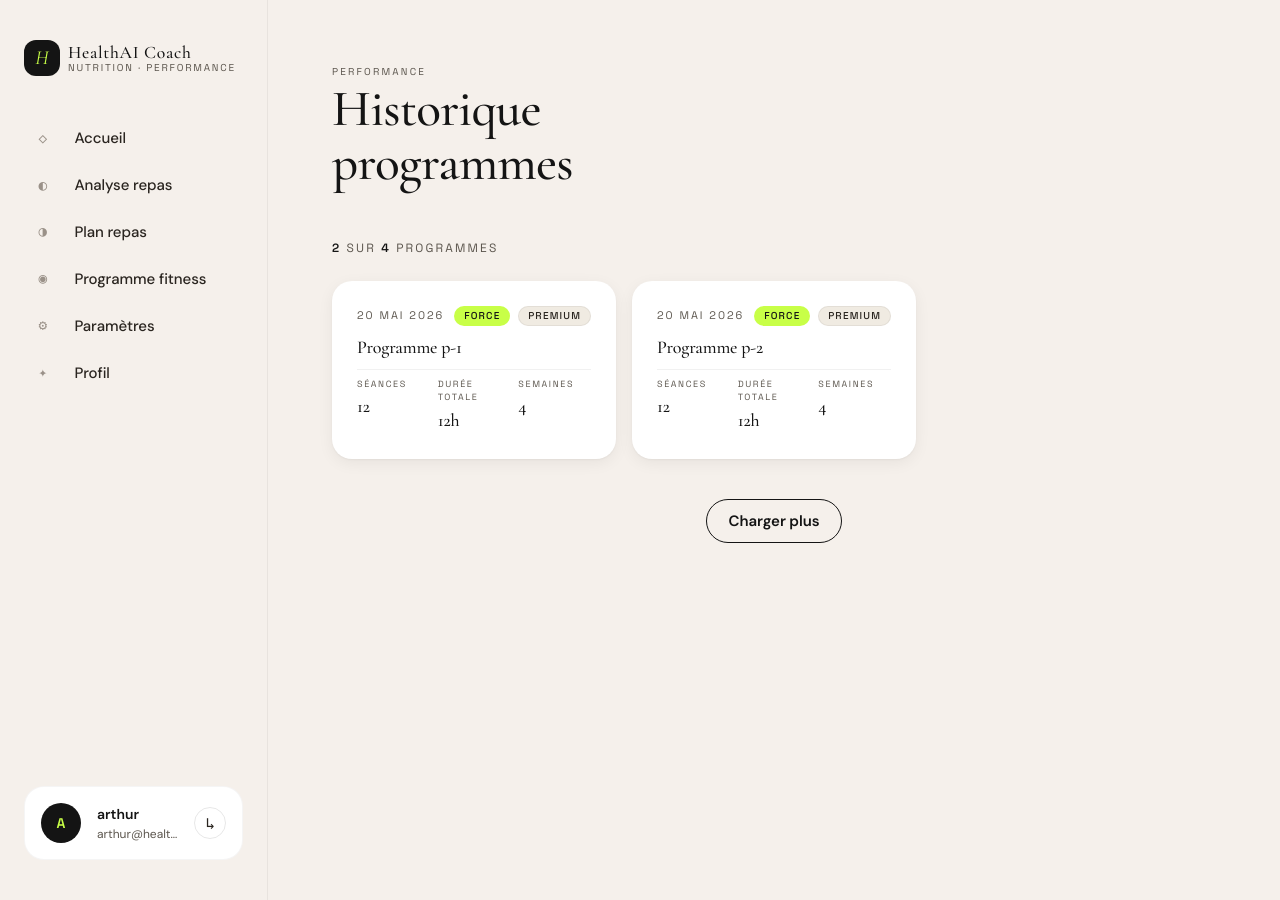
it: FitnessProgramHistoryView › clicking "Charger plus" fetches the next page and appends the new cards
Expected: the number of list items with test id "program-history-card" is 2, x1=332 y1=280 x2=616 y2=459; x1=632 y1=280 x2=916 y2=459
Click the button with test id "history-load-more" at x=774, y=521, box x1=706 y1=499 x2=842 y2=543
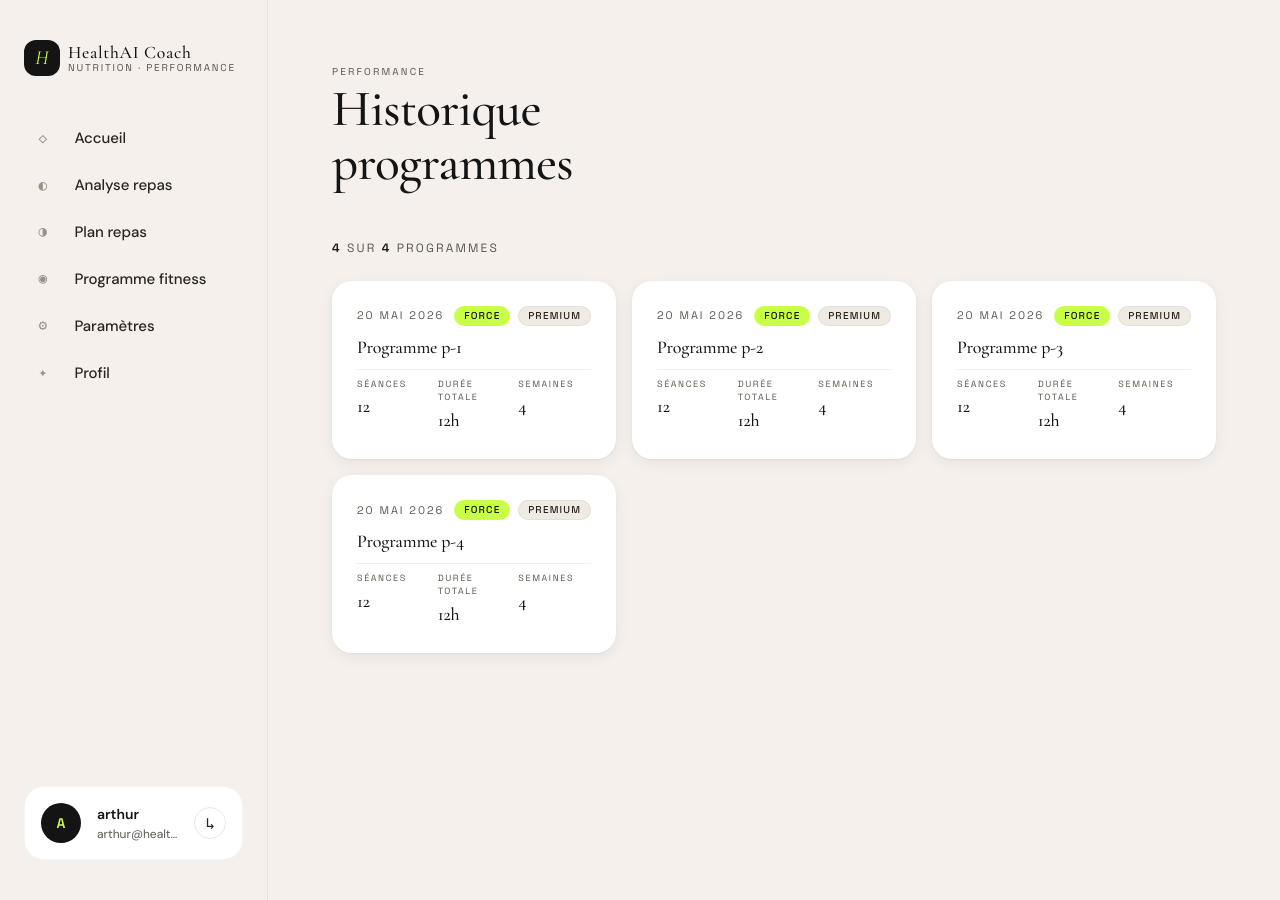
Now the number of list items with test id "program-history-card" is 4, box x1=332 y1=280 x2=616 y2=459; x1=632 y1=280 x2=916 y2=459; x1=932 y1=280 x2=1216 y2=459; x1=332 y1=475 x2=616 y2=653
Now the list item with test id "program-history-card" shows "p-3", box x1=932 y1=280 x2=1216 y2=459
Now the list item with test id "program-history-card" shows "p-4", box x1=332 y1=475 x2=616 y2=653
